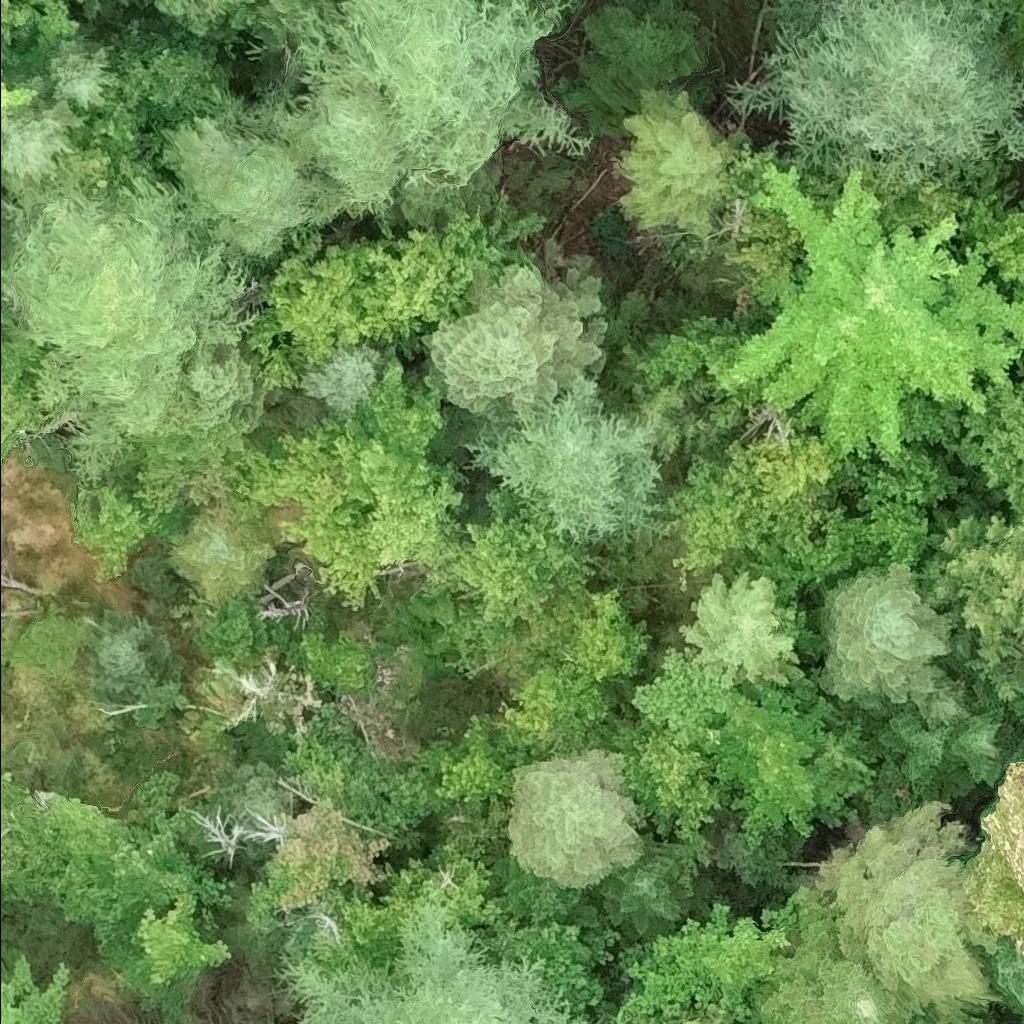crown: (713, 160, 1023, 461), (8, 180, 252, 486), (268, 0, 596, 222), (732, 0, 1023, 196), (5, 775, 234, 989), (241, 418, 466, 610), (271, 210, 520, 372), (813, 800, 990, 1009), (468, 369, 665, 548), (285, 901, 556, 1023), (609, 654, 752, 870), (428, 268, 605, 421), (495, 584, 649, 757), (715, 698, 878, 856), (427, 477, 595, 628), (607, 893, 802, 1023), (664, 427, 836, 572), (745, 887, 919, 1023), (162, 120, 327, 261), (284, 705, 447, 844), (312, 851, 500, 965), (612, 83, 741, 249), (917, 513, 1023, 703), (507, 748, 646, 890), (907, 353, 1023, 517), (248, 805, 390, 932), (299, 624, 427, 764), (824, 565, 946, 709), (676, 571, 815, 692), (343, 368, 452, 521), (856, 449, 965, 566), (419, 713, 546, 805), (167, 505, 276, 610), (512, 917, 616, 1023), (0, 0, 79, 125), (162, 353, 274, 439), (974, 756, 1023, 952), (596, 838, 693, 937), (641, 317, 753, 388), (0, 344, 51, 472), (879, 705, 947, 796), (946, 709, 1018, 784), (302, 349, 379, 418), (105, 620, 172, 692), (982, 215, 1023, 301), (912, 681, 972, 739), (627, 1011, 725, 1023), (1012, 0, 1023, 84), (0, 270, 14, 322), (27, 0, 65, 11)
